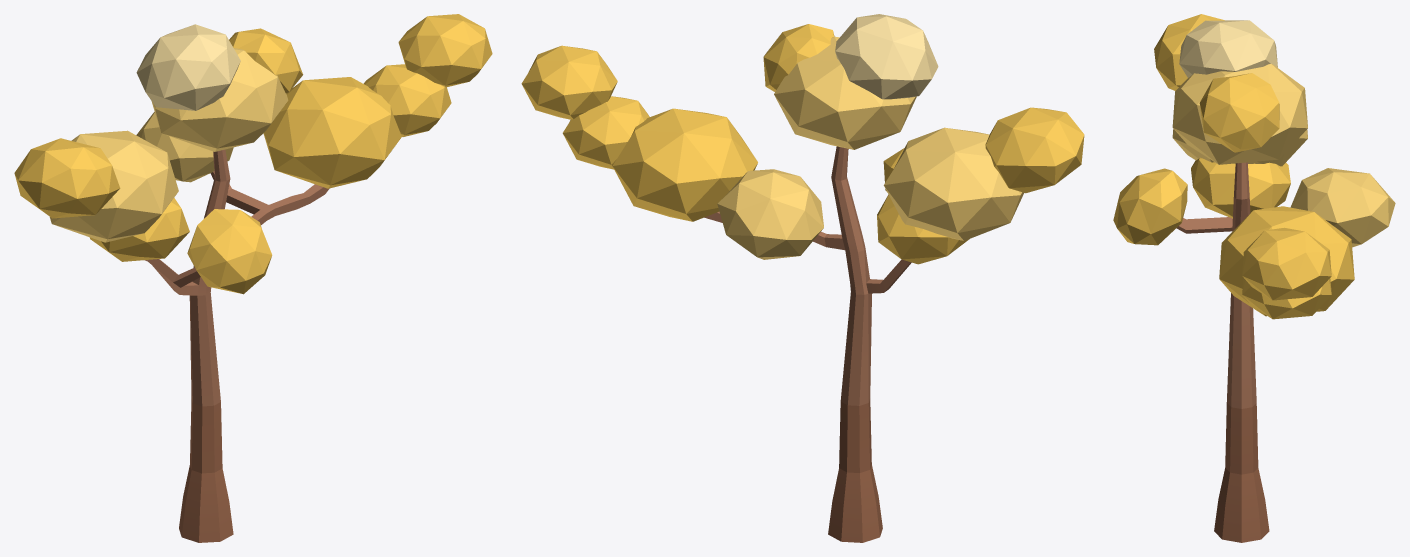
Rendered from tree_6.fbx.
The picture shows the model from 3 angles, left to right: view 1: azimuth 30°, elevation 25°; view 2: azimuth 150°, elevation 25°; view 3: azimuth 270°, elevation 25°; orthographic projection. The views are drawn at different scales.
Parts seen in each view (by area): view 1: tree_6; view 2: tree_6; view 3: tree_6.
Part boxes in pixels (<box>): tree_6: <box>14,14,492,542</box>; tree_6: <box>521,14,1084,542</box>; tree_6: <box>1113,14,1395,542</box>.
Size of the model in its own units: 763 by 732 by 375.
